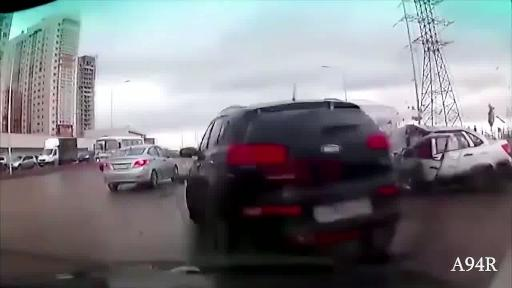Accident: (91, 100, 512, 247)
